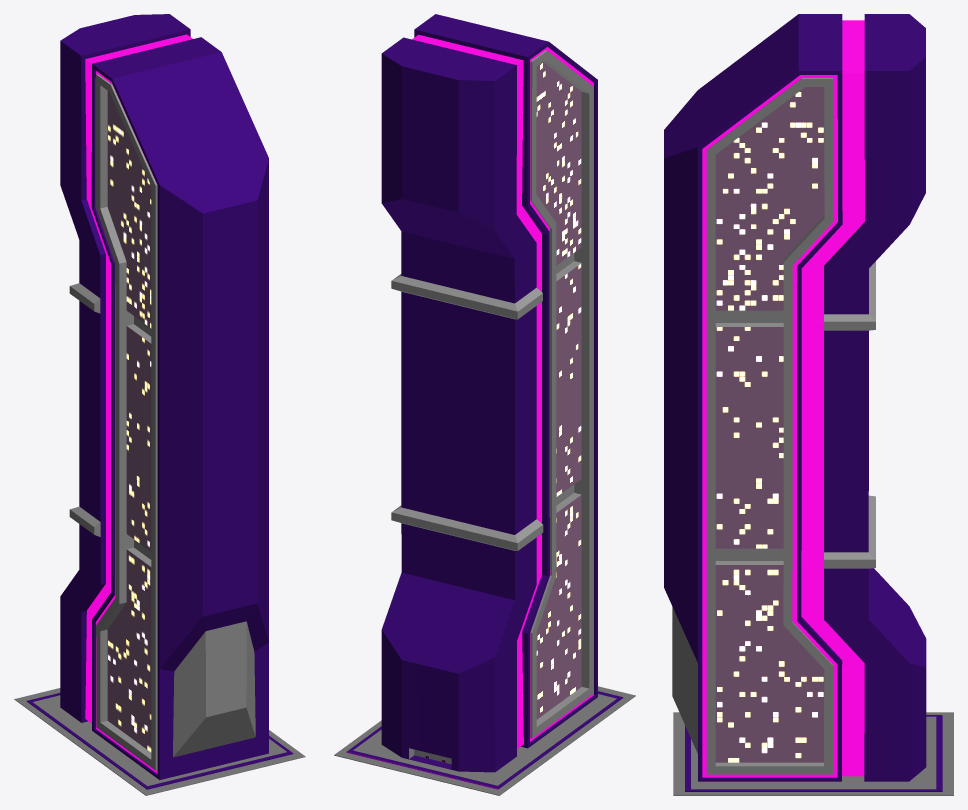
Rendered from Bina 9.fbx.
The picture shows the model from 3 angles, left to right: view 1: azimuth 30°, elevation 25°; view 2: azimuth 150°, elevation 25°; view 3: azimuth 270°, elevation 25°; orthographic projection. The views are drawn at different scales.
Parts seen in each view (by area): view 1: Rocket, RocketStand; view 2: Rocket, RocketStand; view 3: Rocket, RocketStand.
Boxes of the visible parts, left/top/right/bottom form: Rocket: left=60, top=14, right=268, bottom=779; RocketStand: left=14, top=688, right=305, bottom=795; Rocket: left=381, top=14, right=597, bottom=772; RocketStand: left=334, top=686, right=635, bottom=795; Rocket: left=664, top=14, right=926, bottom=781; RocketStand: left=673, top=712, right=953, bottom=795.
Bounding box in the file's own units: 44.96 × 180 × 66.39.
3 materials, 3 textured.
